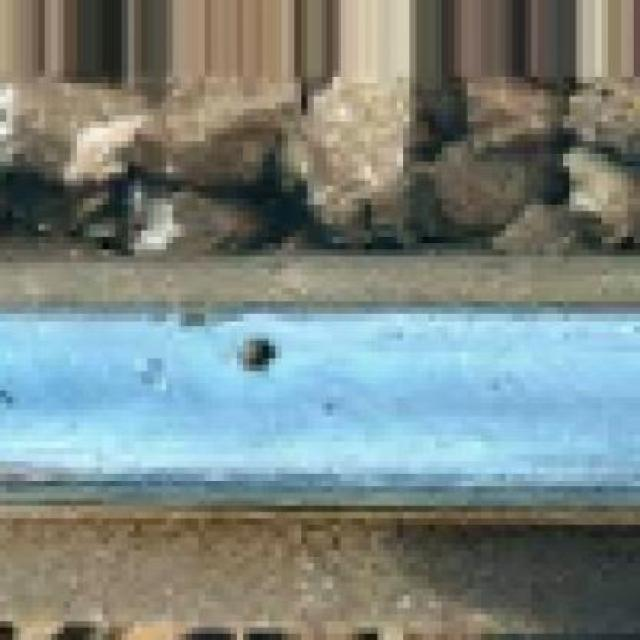defective: (0, 97, 638, 624)
